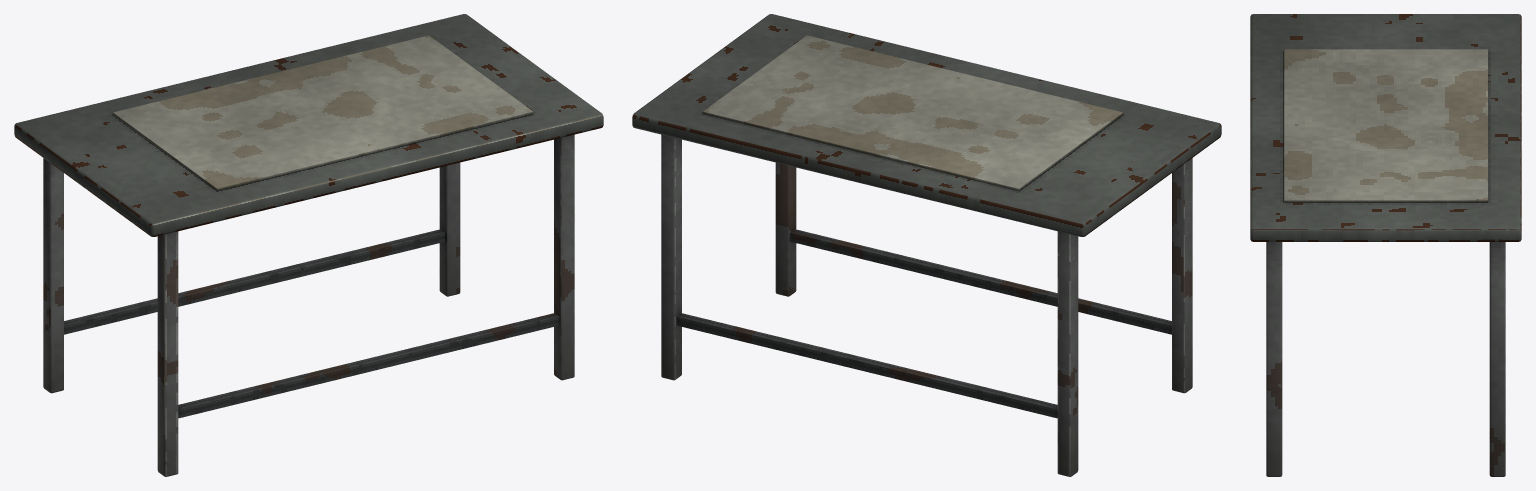
File: table_sheet.glb
3 renders of one model, left to right at view 1: azimuth 30°, elevation 25°; view 2: azimuth 150°, elevation 25°; view 3: azimuth 270°, elevation 25°, orthographic. The views are drawn at different scales.
Parts seen in each view (by area): view 1: table_sheet; view 2: table_sheet; view 3: table_sheet.
Boxes of the visible parts, x1=… form: table_sheet: x1=14, y1=14, x2=603, y2=476; table_sheet: x1=632, y1=14, x2=1221, y2=476; table_sheet: x1=1250, y1=14, x2=1521, y2=476.
Size of the model in its own units: 1.6 by 0.905 by 0.85.
Materials: 1 (1 with a texture image).
